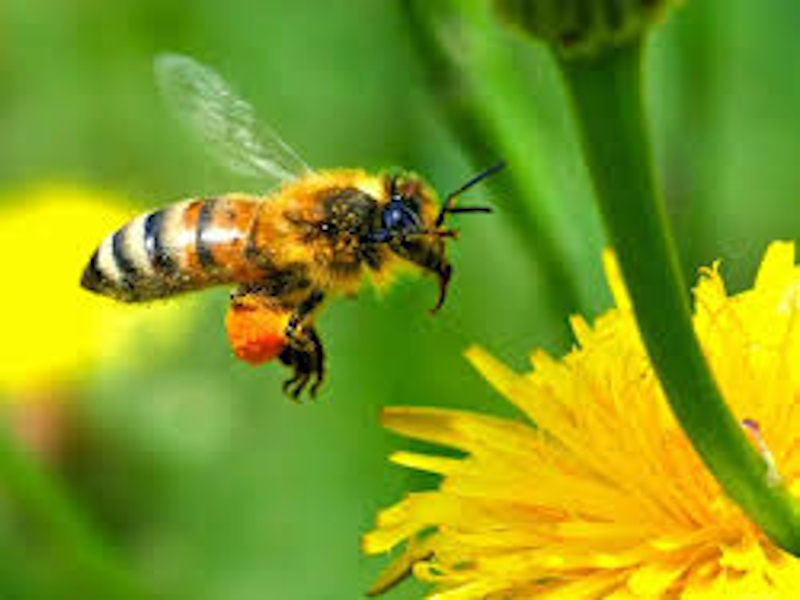abeja: (73, 45, 531, 381)
